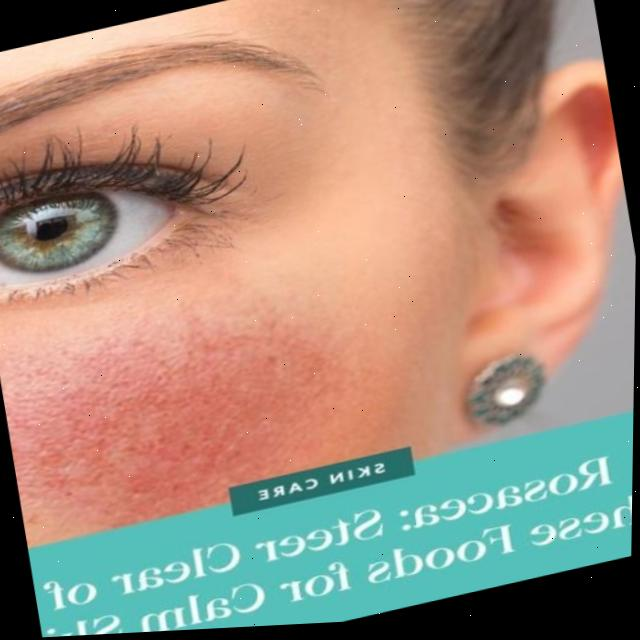Rosacea: (0, 277, 356, 547)
